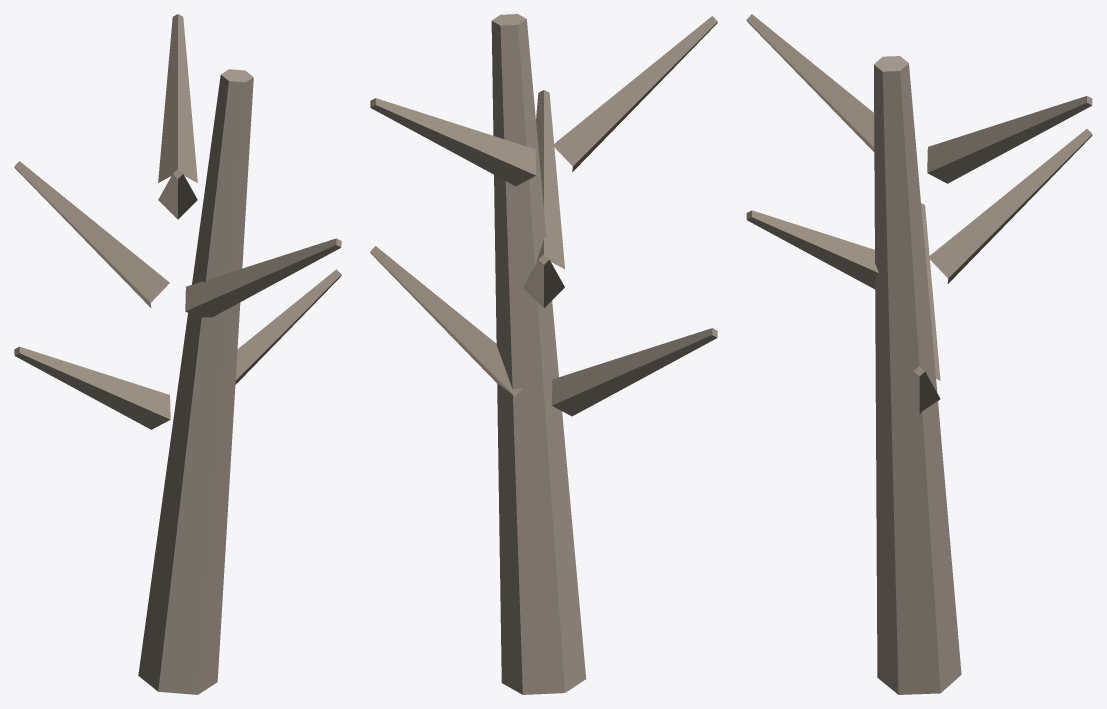
Rendered from deadtree_v39.glb.
3 views of the same model, side by side, from view 1: azimuth 30°, elevation 25°; view 2: azimuth 150°, elevation 25°; view 3: azimuth 270°, elevation 25° (orthographic). The views are drawn at different scales.
Visible parts, largest first — view 1: lod0; view 2: lod0; view 3: lod0.
Part boxes in pixels (box(x1,y1,x2,y2)): lod0: box(14, 14, 341, 694); lod0: box(370, 14, 717, 694); lod0: box(746, 14, 1092, 694).
Size of what is drawn, in the model's own units: 2.67 by 4.74 by 2.32.
